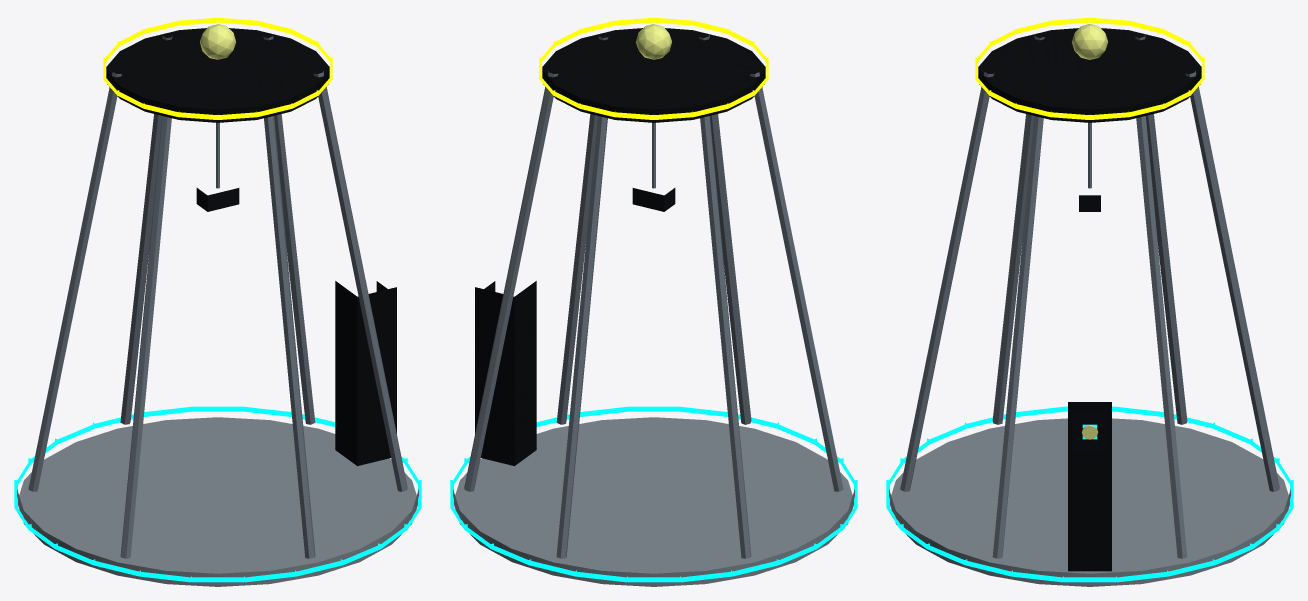
The model's file is tt_arc_vr_pod.glb.
The picture shows the model from 3 angles, left to right: view 1: azimuth 30°, elevation 25°; view 2: azimuth 150°, elevation 25°; view 3: azimuth 270°, elevation 25°; orthographic projection.
Parts seen in each view (by area): view 1: Pod_Floor, Pod_Arcs, Pod_Crown, Pod_Ped, Pod_Ring_LED, Pod_Crown_LED, Pod_Ball, Pod_Headset; view 2: Pod_Floor, Pod_Arcs, Pod_Crown, Pod_Ped, Pod_Ring_LED, Pod_Crown_LED, Pod_Ball, Pod_Headset; view 3: Pod_Floor, Pod_Arcs, Pod_Crown, Pod_Ped, Pod_Ring_LED, Pod_Crown_LED, Screen_Plate, Pod_Ball.
Part boxes in pixels (x1=…): Pod_Floor: x1=17, y1=417, x2=418, y2=586; Pod_Arcs: x1=28, y1=35, x2=407, y2=558; Pod_Crown: x1=106, y1=28, x2=329, y2=122; Pod_Ped: x1=335, y1=281, x2=396, y2=465; Pod_Ring_LED: x1=14, y1=406, x2=421, y2=582; Pod_Crown_LED: x1=103, y1=17, x2=332, y2=119; Pod_Ball: x1=200, y1=24, x2=235, y2=59; Pod_Headset: x1=196, y1=188, x2=239, y2=211; Pod_Floor: x1=453, y1=417, x2=854, y2=586; Pod_Arcs: x1=464, y1=34, x2=843, y2=558; Pod_Crown: x1=542, y1=28, x2=765, y2=122; Pod_Ped: x1=475, y1=281, x2=536, y2=465; Pod_Ring_LED: x1=450, y1=406, x2=857, y2=582; Pod_Crown_LED: x1=539, y1=17, x2=768, y2=119; Pod_Ball: x1=636, y1=24, x2=671, y2=59; Pod_Headset: x1=632, y1=188, x2=675, y2=211; Pod_Floor: x1=889, y1=418, x2=1290, y2=586; Pod_Arcs: x1=900, y1=34, x2=1279, y2=558; Pod_Crown: x1=978, y1=28, x2=1201, y2=122; Pod_Ped: x1=1068, y1=402, x2=1111, y2=571; Pod_Ring_LED: x1=886, y1=406, x2=1293, y2=582; Pod_Crown_LED: x1=975, y1=17, x2=1204, y2=119; Screen_Plate: x1=1071, y1=410, x2=1108, y2=451; Pod_Ball: x1=1072, y1=24, x2=1107, y2=59.
Size of what is drawn, in the model's own units: 2.23 by 2.88 by 2.23.
7 materials, 3 textured.
